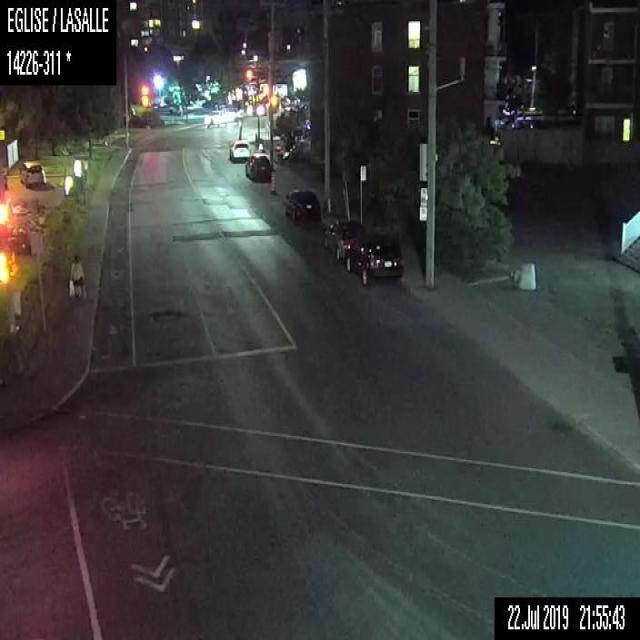pedestrian: (69, 255, 84, 300)
vehicle: (345, 234, 404, 286), (321, 218, 366, 261), (282, 187, 321, 224), (18, 159, 45, 189), (245, 152, 271, 181), (228, 137, 251, 160), (205, 108, 222, 126)
